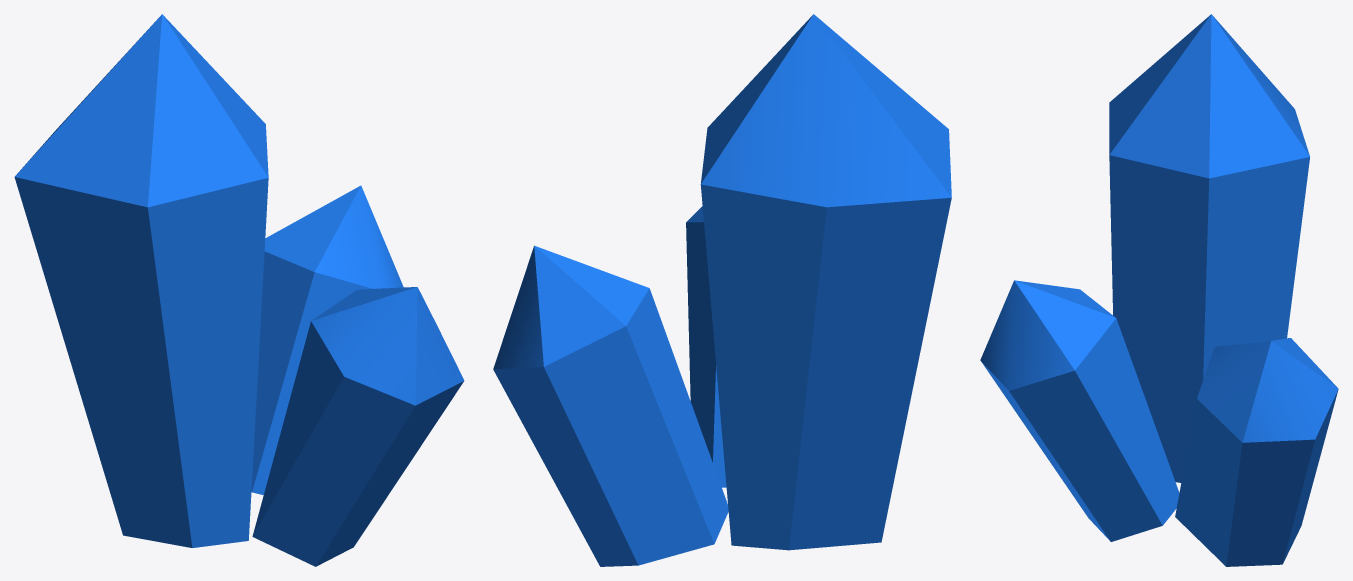
File: CrystalsV1.FBX
3 renders of one model, left to right at view 1: azimuth 30°, elevation 25°; view 2: azimuth 150°, elevation 25°; view 3: azimuth 270°, elevation 25°, orthographic. The views are drawn at different scales.
Visible parts, largest first — view 1: OBJ_CrystalOutsideV1; view 2: OBJ_CrystalOutsideV1; view 3: OBJ_CrystalOutsideV1.
Boxes of the visible parts, <box> form: OBJ_CrystalOutsideV1: <box>14,14,464,566</box>; OBJ_CrystalOutsideV1: <box>493,14,951,566</box>; OBJ_CrystalOutsideV1: <box>980,14,1338,566</box>.
Size of the model in its own units: 0.3317 by 0.4255 by 0.2882.
